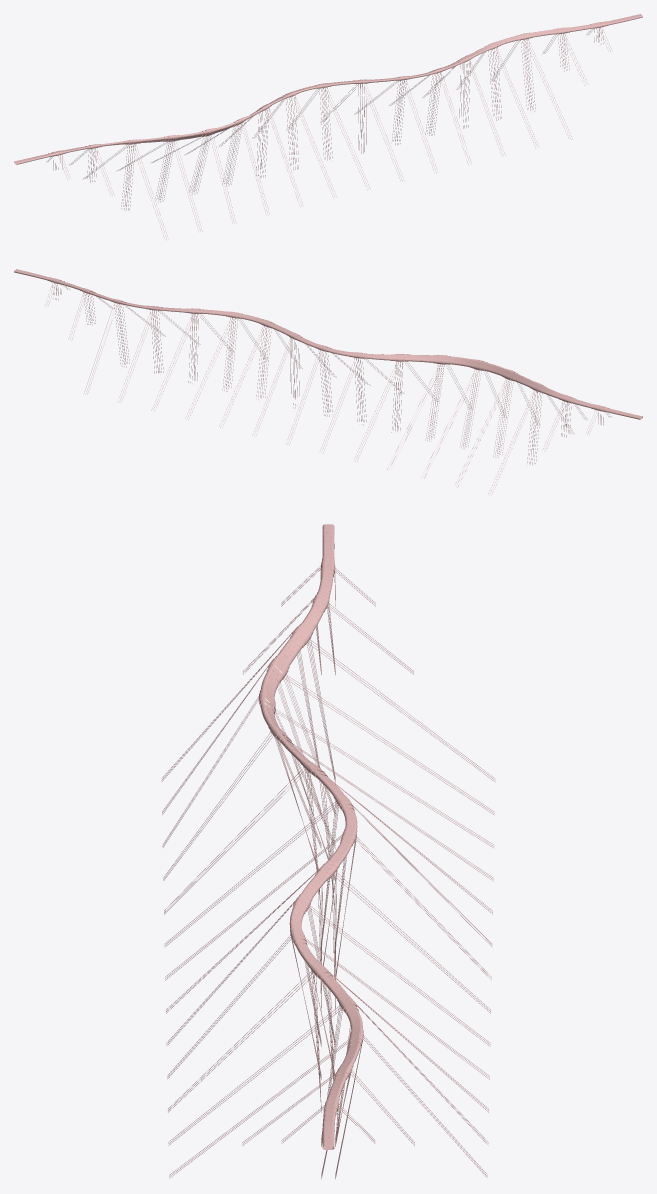
The model's file is structure_sf.glb.
3 views of the same model, one above another, from view 1: azimuth 30°, elevation 25°; view 2: azimuth 150°, elevation 25°; view 3: azimuth 270°, elevation 25° (orthographic). The views are drawn at different scales.
Parts seen in each view (by area): view 1: n1; view 2: n1; view 3: n1.
Boxes of the visible parts, left/top/right/bottom form: n1: left=14, top=14, right=642, bottom=240; n1: left=14, top=269, right=642, bottom=495; n1: left=161, top=524, right=495, bottom=1179.
Size of the model in its own units: 3700 by 429 by 856.
